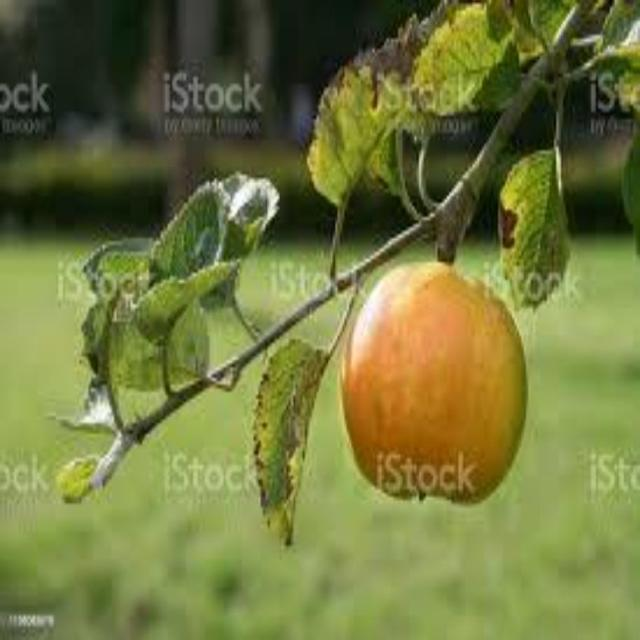Healty Apple: (347, 225, 541, 510)
